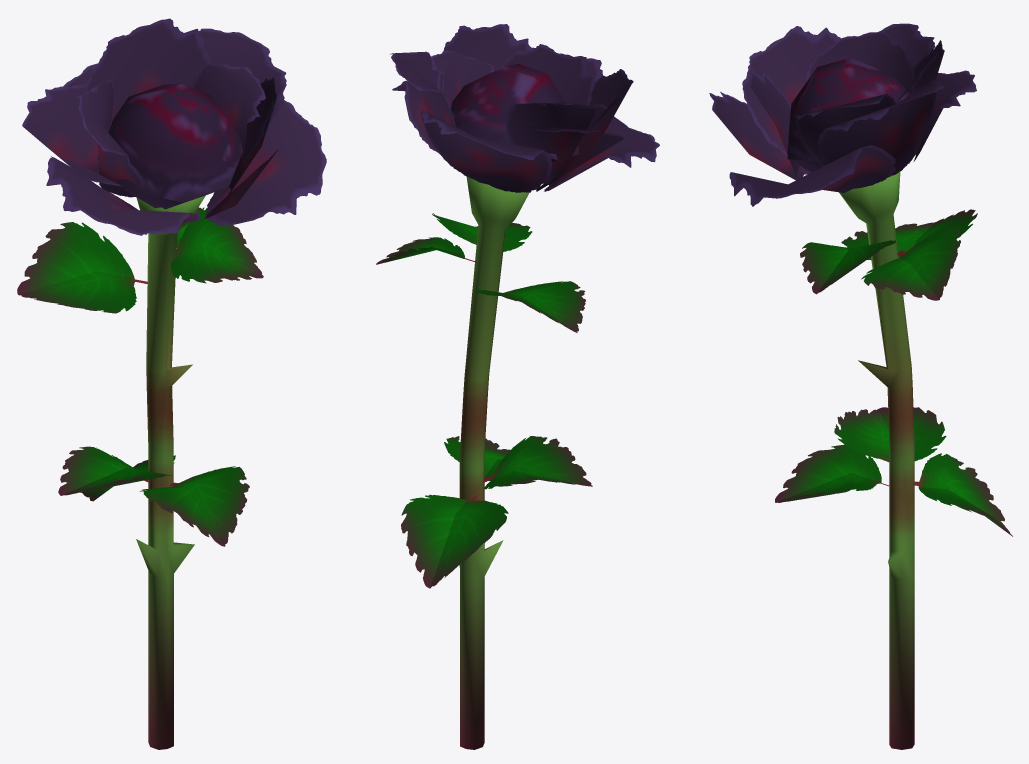
Rendered from BlackRose.fbx.
The picture shows the model from 3 angles, left to right: view 1: azimuth 30°, elevation 25°; view 2: azimuth 150°, elevation 25°; view 3: azimuth 270°, elevation 25°; orthographic projection. The views are drawn at different scales.
Visible parts, largest first — view 1: BlackRose; view 2: BlackRose; view 3: BlackRose.
Part boxes in pixels (x1,y1,x2,y2): BlackRose: (17,18,326,749); BlackRose: (376,24,659,749); BlackRose: (709,23,1012,749).
Bounding box in the file's own units: 25.11 × 63.63 × 25.44.
1 material, 1 textured.
